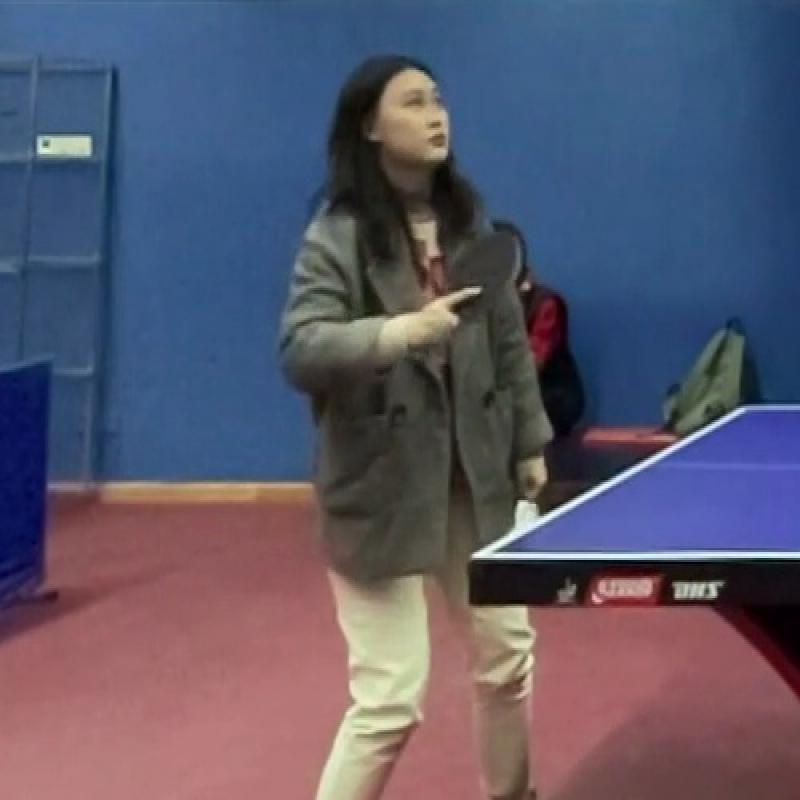bats: (436, 224, 537, 342)
